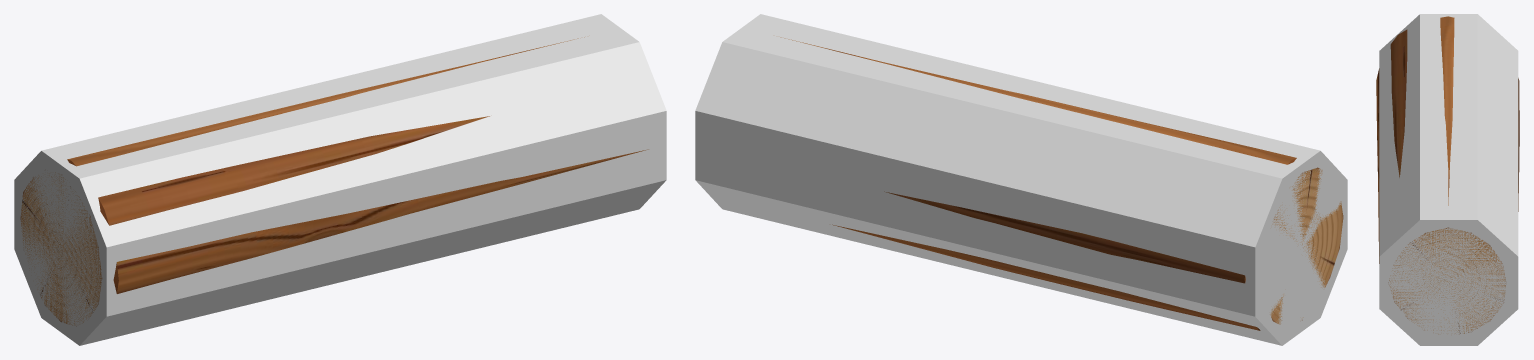
Rendered from IO_Log_Short_A.glb.
The picture shows the model from 3 angles, left to right: view 1: azimuth 30°, elevation 25°; view 2: azimuth 150°, elevation 25°; view 3: azimuth 270°, elevation 25°; orthographic projection. The views are drawn at different scales.
Visible parts, largest first — view 1: IO_Log_Short_A_COL, IO_Log_Short_A_LOD0; view 2: IO_Log_Short_A_COL, IO_Log_Short_A_LOD0; view 3: IO_Log_Short_A_COL, IO_Log_Short_A_LOD0.
Part boxes in pixels (x1,y1,x2,y2): IO_Log_Short_A_COL: (14,14,666,345); IO_Log_Short_A_LOD0: (20,37,648,326); IO_Log_Short_A_COL: (695,14,1347,345); IO_Log_Short_A_LOD0: (780,37,1343,330); IO_Log_Short_A_COL: (1379,14,1518,345); IO_Log_Short_A_LOD0: (1376,16,1519,334).
Size of what is drawn, in the model's own units: 1.2 by 0.3464 by 0.3532.
Materials: 1 (1 with a texture image).
